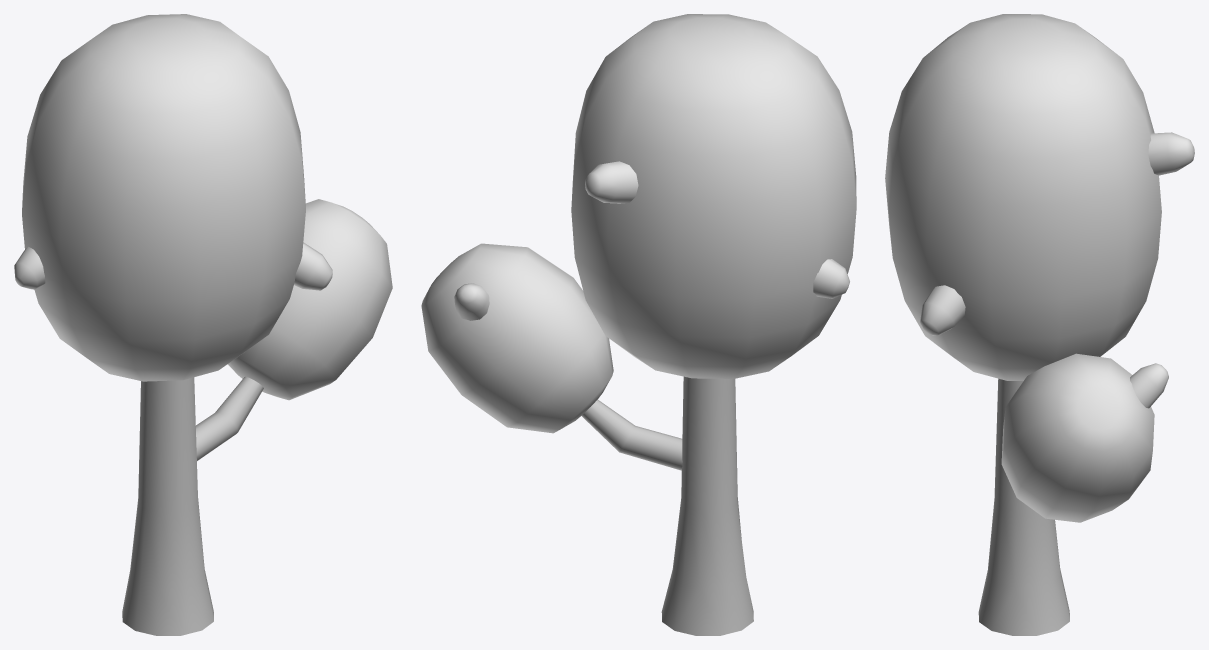
File: Tree_v2.fbx
3 views of the same model, side by side, from view 1: azimuth 30°, elevation 25°; view 2: azimuth 150°, elevation 25°; view 3: azimuth 270°, elevation 25° (orthographic).
Visible parts, largest first — view 1: Treev1.012; view 2: Treev1.012; view 3: Treev1.012.
Boxes of the visible parts, left/top/right/bottom form: Treev1.012: left=14, top=14, right=392, bottom=635; Treev1.012: left=421, top=14, right=856, bottom=635; Treev1.012: left=885, top=14, right=1194, bottom=635.
Bounding box in the file's own units: 3.27 × 4.66 × 2.25.
